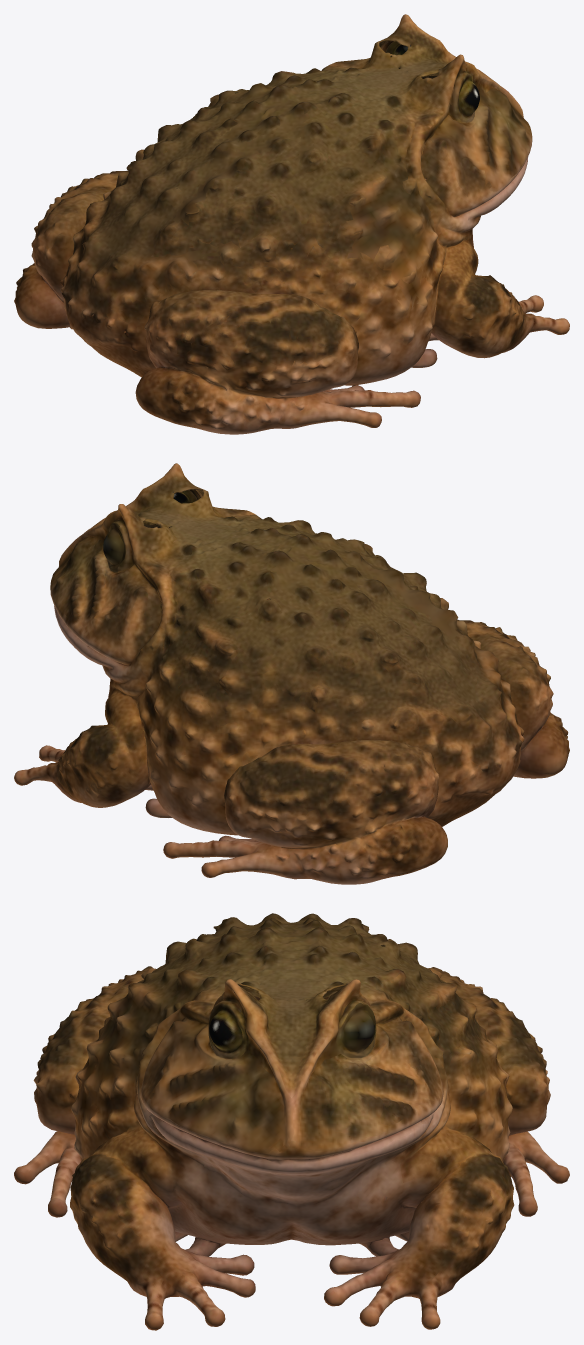
The model's file is generation_frog_0.glb.
3 views of the same model, one above another, from view 1: azimuth 30°, elevation 25°; view 2: azimuth 150°, elevation 25°; view 3: azimuth 270°, elevation 25° (orthographic). The views are drawn at different scales.
Parts seen in each view (by area): view 1: geometry_0; view 2: geometry_0; view 3: geometry_0.
Boxes of the visible parts, box(x1,y1,x2,y2) form: geometry_0: box(14, 14, 569, 434); geometry_0: box(14, 463, 569, 884); geometry_0: box(14, 913, 569, 1330).
Size of the model in its own units: 0.9994 by 0.582 by 0.9359.
Materials: 1 (1 with a texture image).
